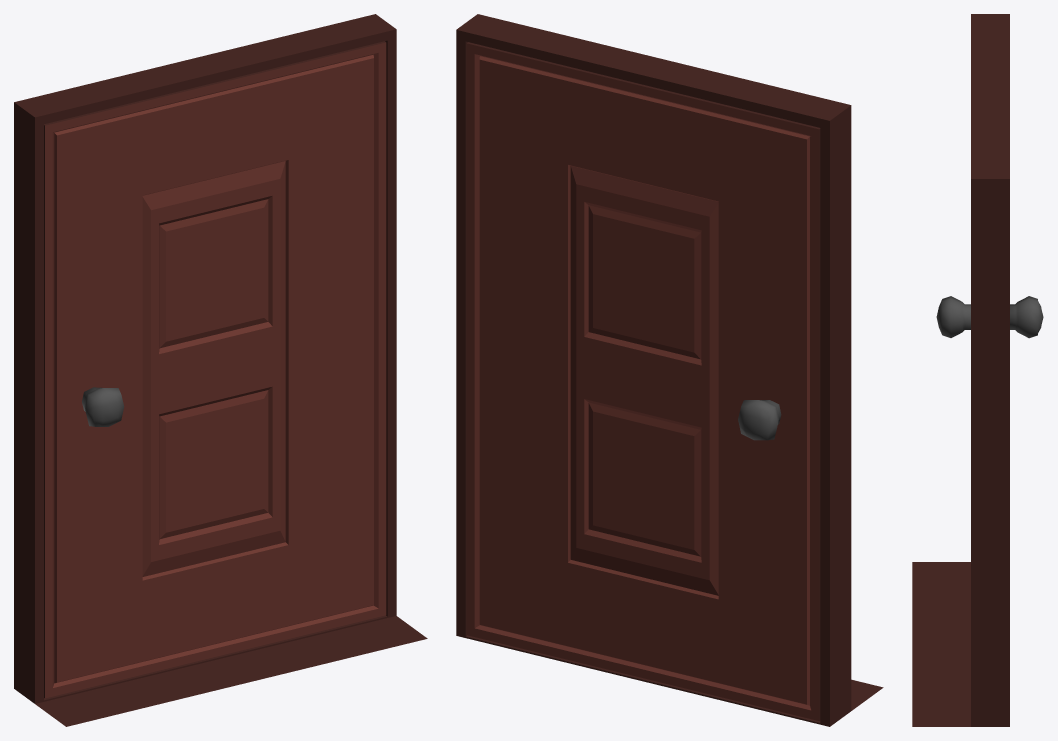
File: SingleDoor.fbx
The picture shows the model from 3 angles, left to right: view 1: azimuth 30°, elevation 25°; view 2: azimuth 150°, elevation 25°; view 3: azimuth 270°, elevation 25°; orthographic projection. The views are drawn at different scales.
Visible parts, largest first — view 1: Door; view 2: Door; view 3: Door.
Part boxes in pixels (<box>): Door: <box>14,14,427,726</box>; Door: <box>456,14,883,726</box>; Door: <box>912,14,1043,726</box>.
Bounding box in the file's own units: 200 × 310 × 67.22.
